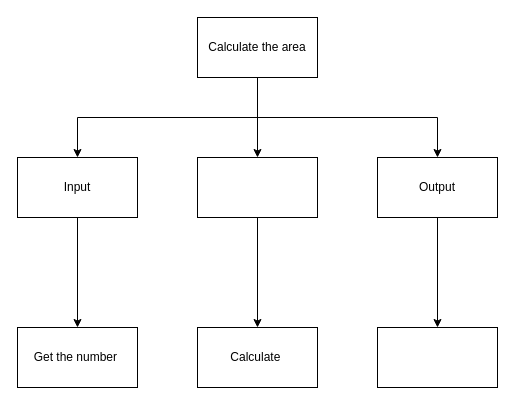
Image size: 515x405. Some labels were removed from this diagram. The centre of each missing label's shape, as x and y in pixels:
"Process" belongs at (x=257, y=187).
"Show answer" belongs at (x=437, y=357).
